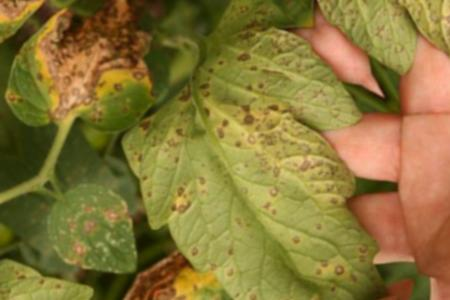Tomato Septoria leaf spot: (76, 0, 450, 300), (0, 0, 181, 168)
